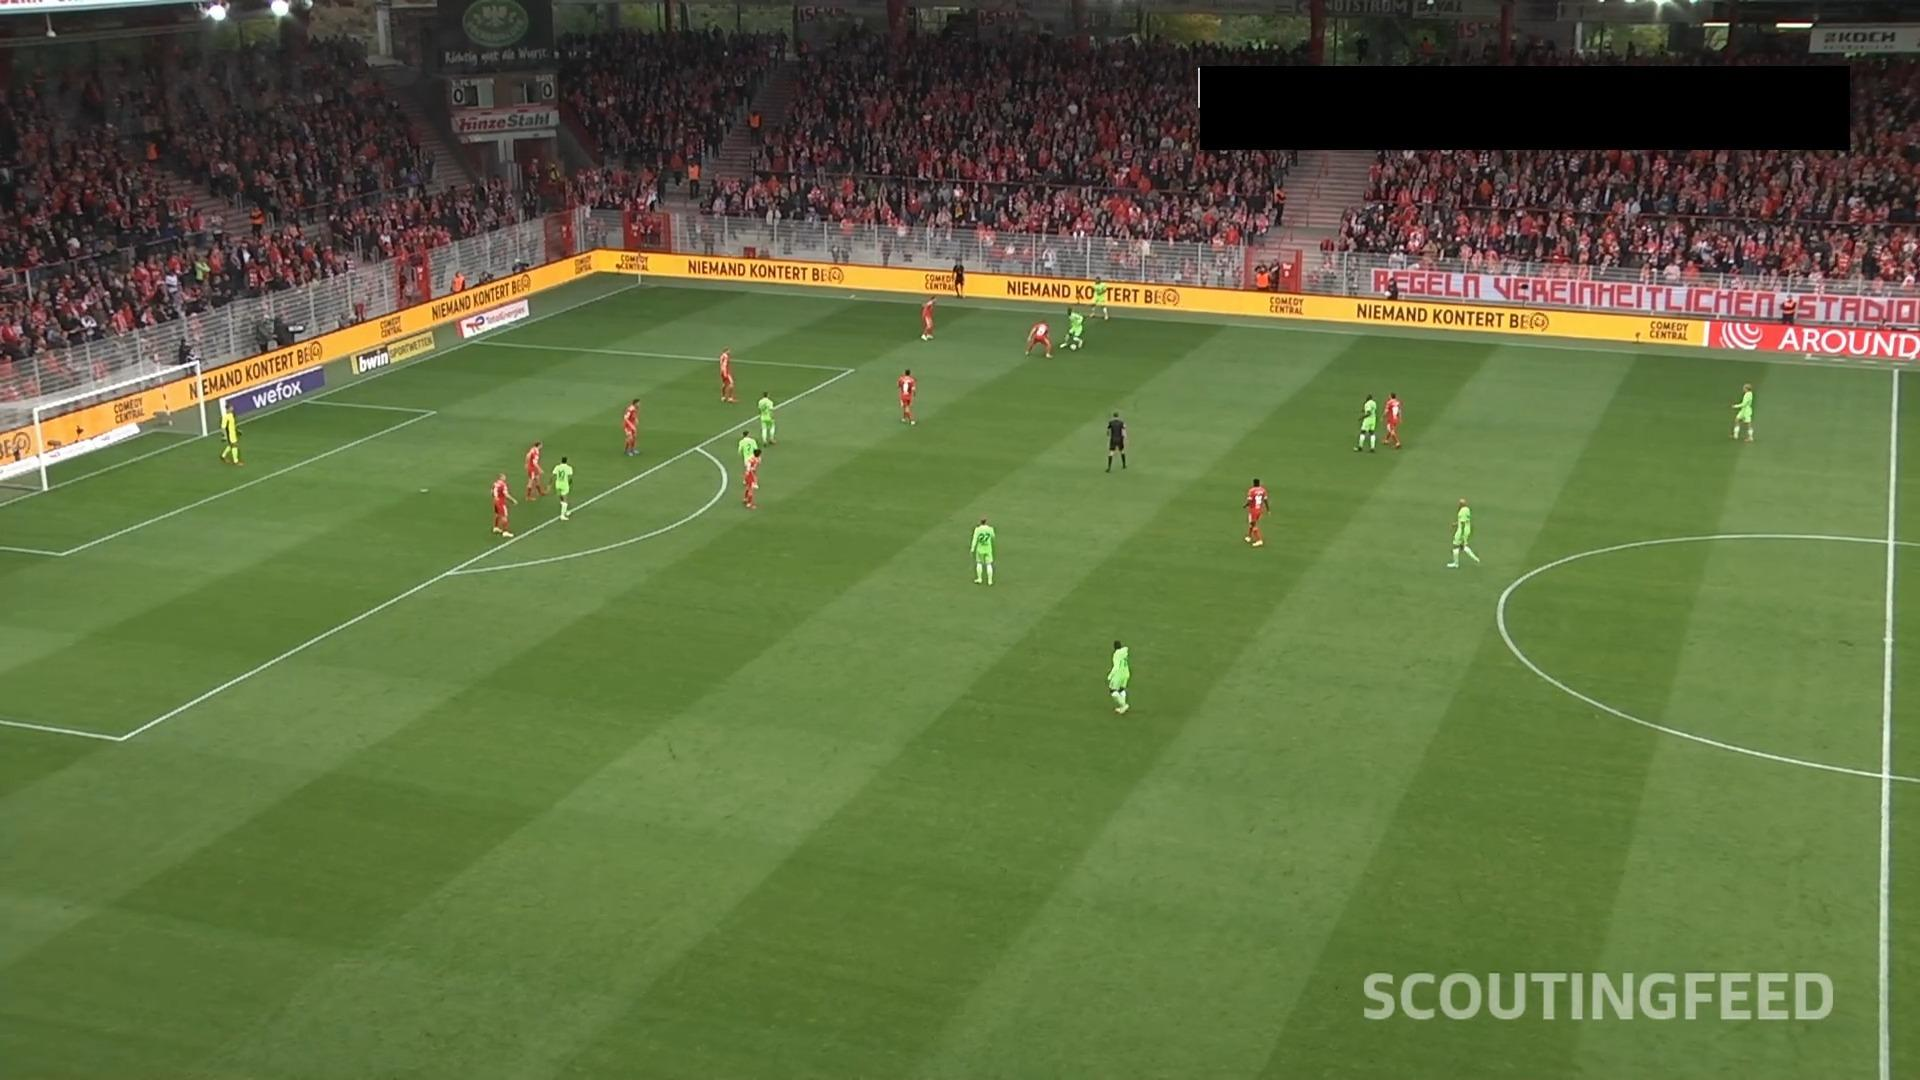ball: (1068, 343, 1079, 352)
